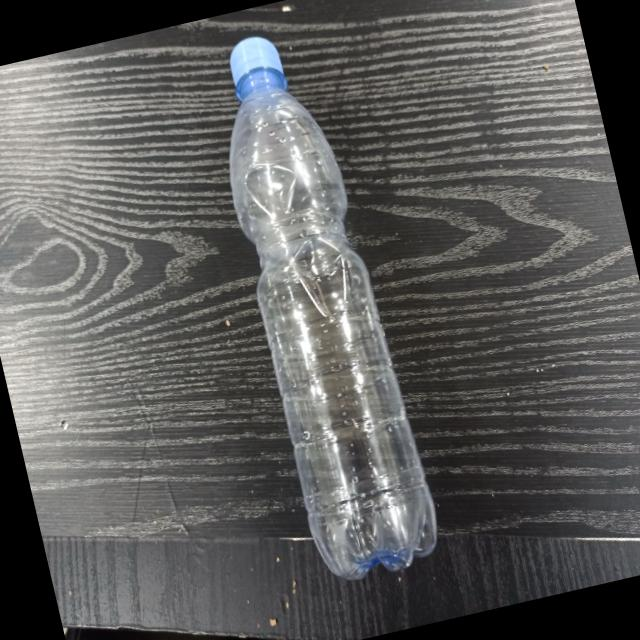BotolPlastik: (196, 18, 448, 589)
